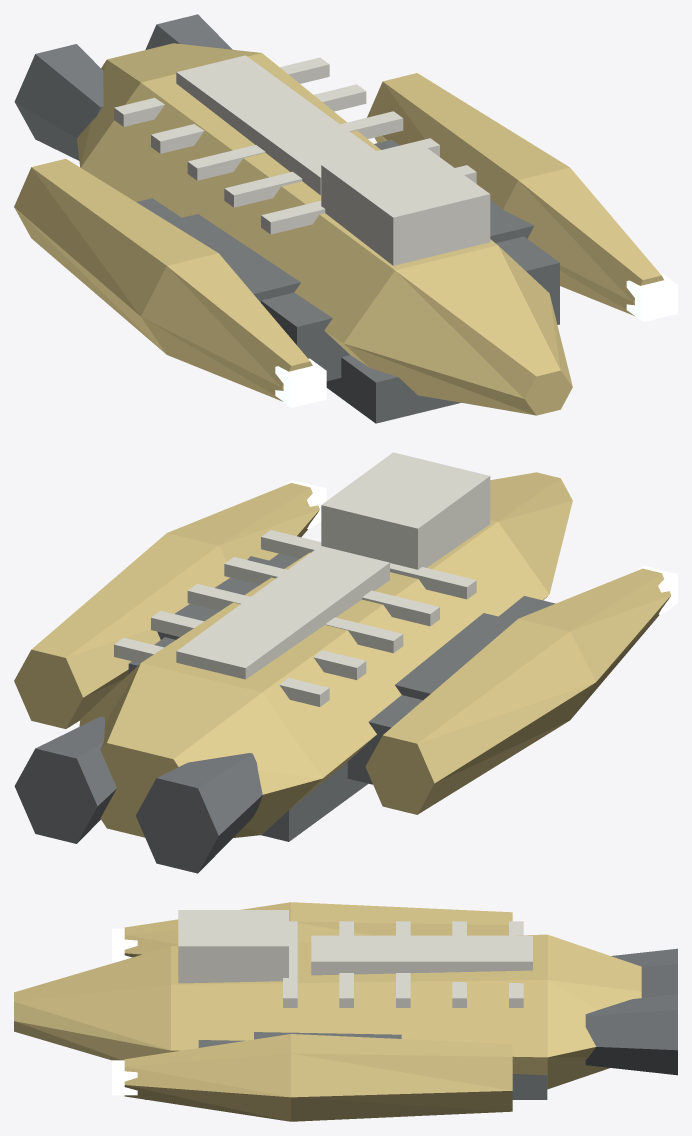
3 views of the same model, one above another, from view 1: azimuth 30°, elevation 25°; view 2: azimuth 150°, elevation 25°; view 3: azimuth 270°, elevation 25° (orthographic). The views are drawn at different scales.
Bounding box in the file's own units: 4.68 × 1.78 × 7.7.
